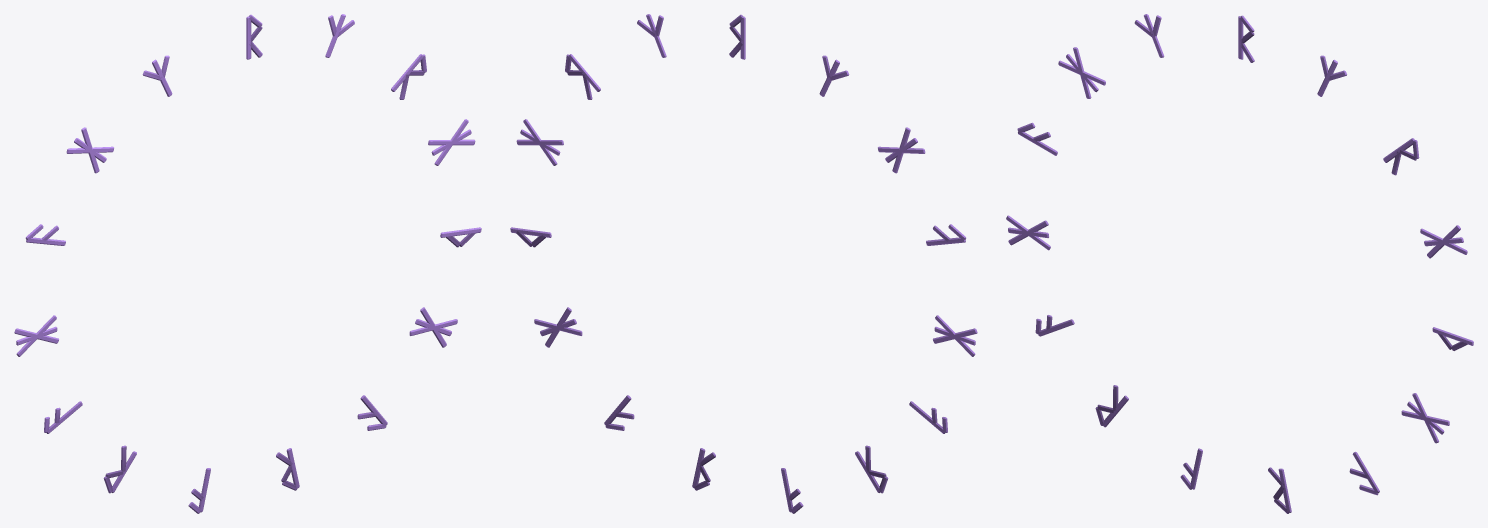
The model's file is portal_runes.glb.
The picture shows the model from 3 angles, left to right: view 1: azimuth 30°, elevation 25°; view 2: azimuth 150°, elevation 25°; view 3: azimuth 330°, elevation 25°; orthographic projection.
Visible parts, largest first — view 1: rune0_0; view 2: rune0_0; view 3: rune0_0.
Boxes of the visible parts, x1=… form: rune0_0: x1=14, y1=14, x2=481, y2=513; rune0_0: x1=510, y1=14, x2=977, y2=513; rune0_0: x1=1006, y1=14, x2=1473, y2=513.
Bounding box in the file's own units: 2.96 × 2.94 × 0.014.
